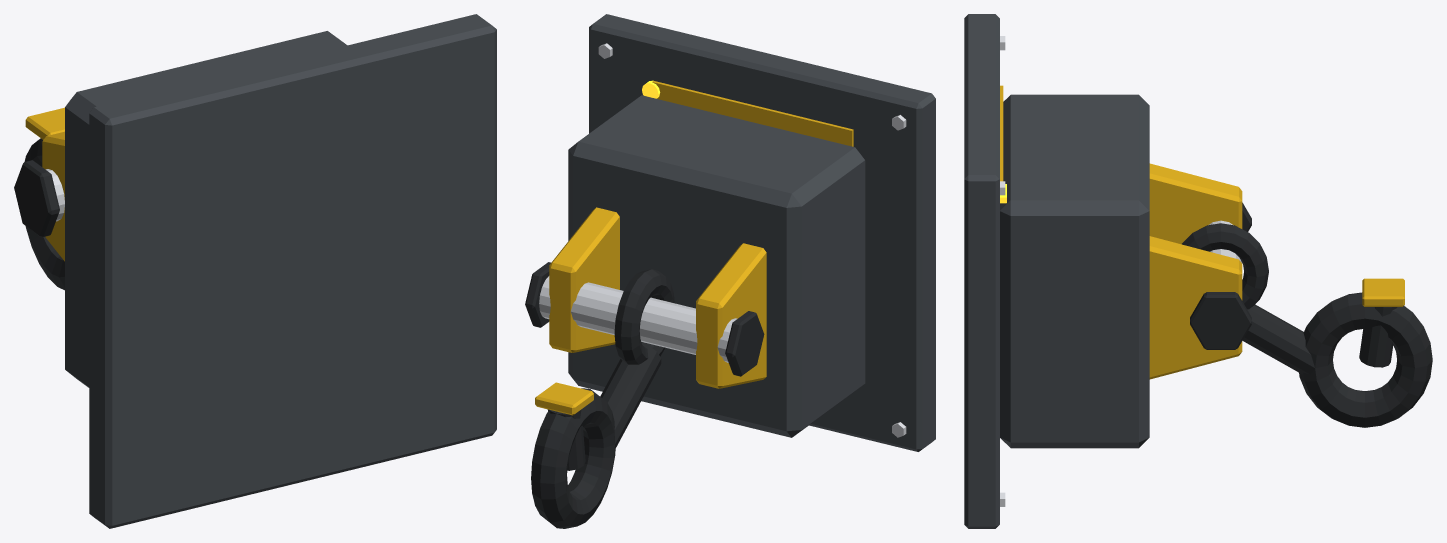
File: tow_hook.glb
The picture shows the model from 3 angles, left to right: view 1: azimuth 30°, elevation 25°; view 2: azimuth 150°, elevation 25°; view 3: azimuth 270°, elevation 25°; orthographic projection. The views are drawn at different scales.
Visible parts, largest first — view 1: tow_hook; view 2: tow_hook; view 3: tow_hook.
Part boxes in pixels (x1=…): tow_hook: x1=14, y1=14, x2=496, y2=528; tow_hook: x1=525, y1=14, x2=935, y2=528; tow_hook: x1=964, y1=14, x2=1432, y2=528.
Size of the model in its own units: 1 by 1 by 1.2.
